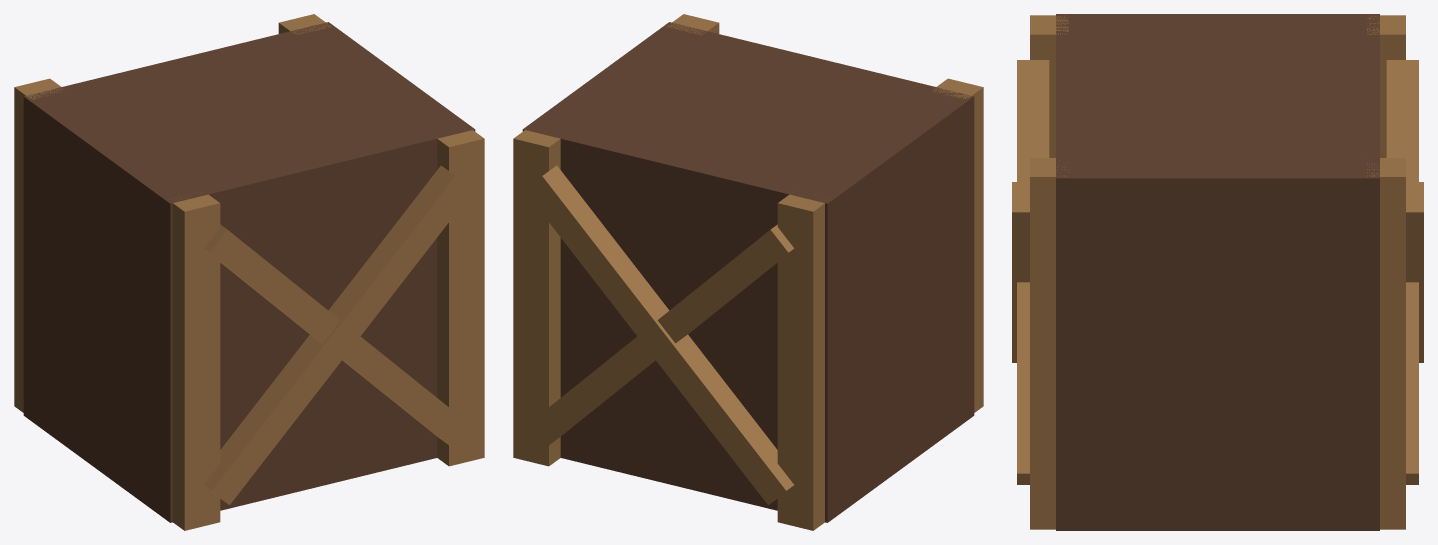
The model's file is PirateCove_SupplyCrate_Standard.glb.
The picture shows the model from 3 angles, left to right: view 1: azimuth 30°, elevation 25°; view 2: azimuth 150°, elevation 25°; view 3: azimuth 270°, elevation 25°; orthographic projection. The views are drawn at different scales.
Visible parts, largest first — view 1: PirateCove_SupplyCrate_Standard; view 2: PirateCove_SupplyCrate_Standard; view 3: PirateCove_SupplyCrate_Standard.
Boxes of the visible parts, box(x1,y1,x2,y2) form: PirateCove_SupplyCrate_Standard: box(14, 14, 484, 530); PirateCove_SupplyCrate_Standard: box(513, 14, 983, 530); PirateCove_SupplyCrate_Standard: box(1012, 14, 1423, 530).
Size of the model in its own units: 1.2 by 1.2 by 1.27.
